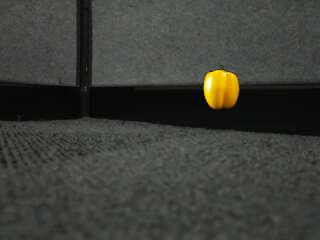Capsicum: (201, 63, 241, 111)
